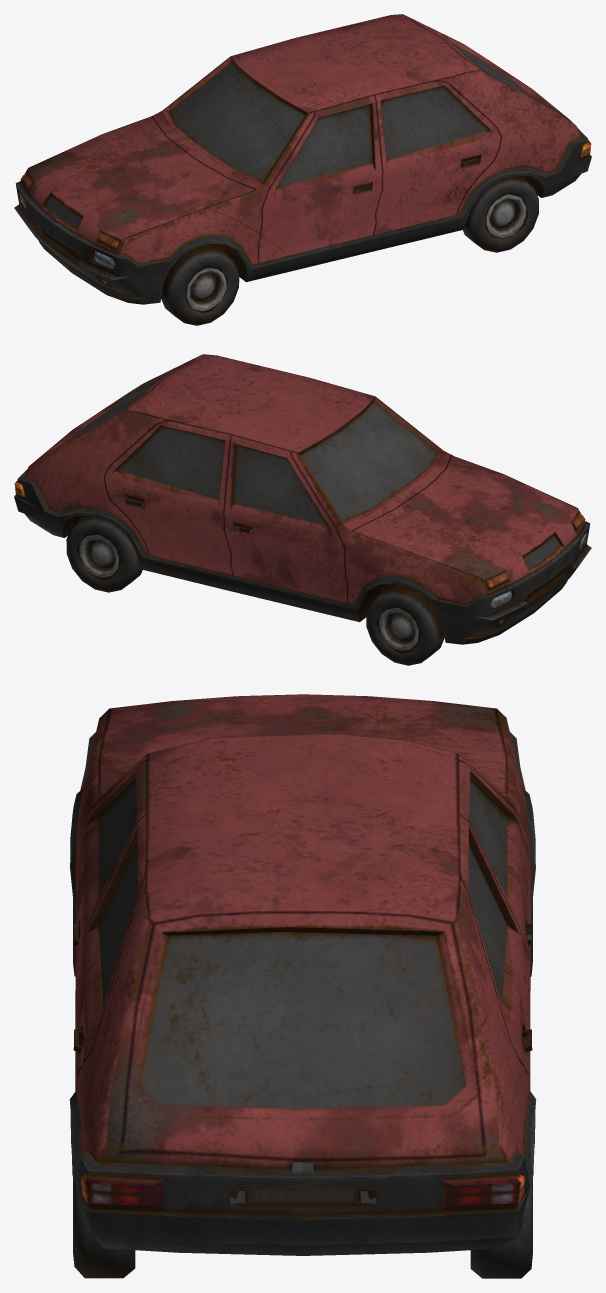
File: car1.glb
3 renders of one model, top to bottom at view 1: azimuth 30°, elevation 25°; view 2: azimuth 150°, elevation 25°; view 3: azimuth 270°, elevation 25°, orthographic. The views are drawn at different scales.
Visible parts, largest first — view 1: car, roue_avant_gauche, roue_arriere_gauche; view 2: car, roue_avant_droite, roue_arriere_droite; view 3: car, roue_arriere_droite, roue_arriere_gauche.
Part boxes in pixels (bbox=[...]): car: bbox=[14, 14, 591, 304]; roue_avant_gauche: bbox=[161, 244, 239, 325]; roue_arriere_gauche: bbox=[463, 176, 538, 252]; car: bbox=[14, 354, 591, 644]; roue_avant_droite: bbox=[366, 584, 444, 665]; roue_arriere_droite: bbox=[66, 516, 142, 592]; car: bbox=[69, 694, 536, 1255]; roue_arriere_droite: bbox=[470, 1178, 532, 1278]; roue_arriere_gauche: bbox=[73, 1178, 135, 1278].
Size of the model in its own units: 4 by 1.38 by 1.63.
1 material, 1 textured.
